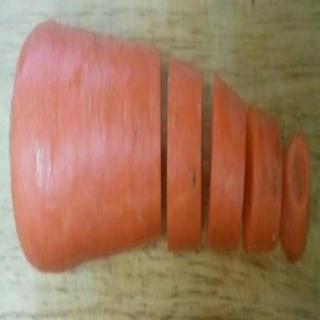carrot: (8, 12, 164, 272)
